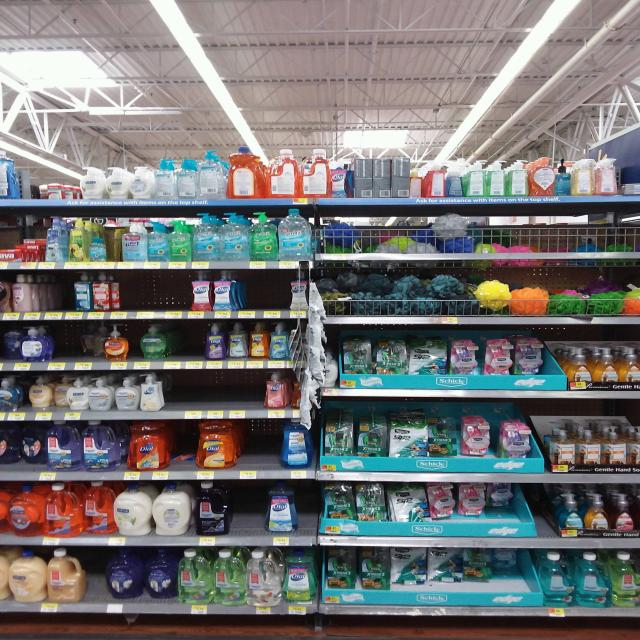empty_space: (173, 375, 259, 404), (130, 280, 189, 311), (242, 427, 280, 465), (242, 492, 264, 532), (257, 279, 287, 305), (174, 323, 199, 354)
